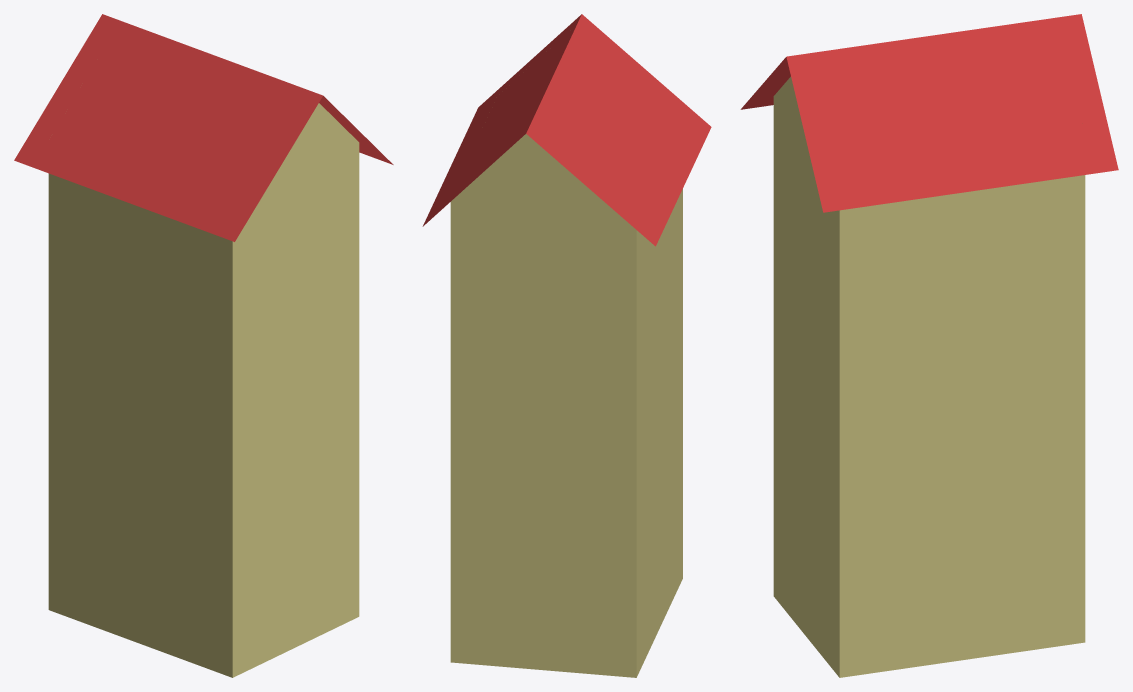
3 views of the same model, side by side, from view 1: azimuth 30°, elevation 25°; view 2: azimuth 150°, elevation 25°; view 3: azimuth 270°, elevation 25° (orthographic). The views are drawn at different scales.
Bounding box in the file's own units: 3.29 × 3.61 × 6.21.
